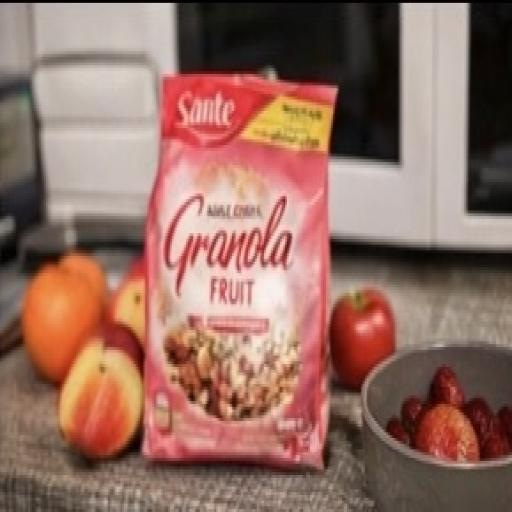granola: (130, 48, 373, 507)
